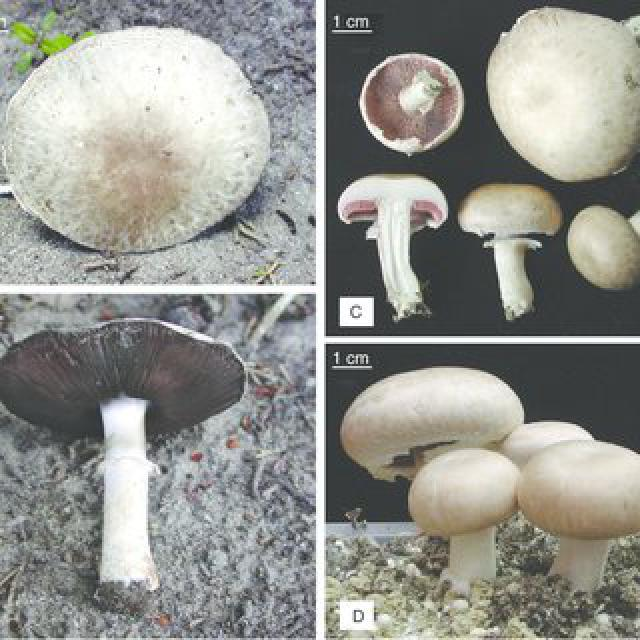Agaricus bisporus: (345, 370, 640, 594), (9, 323, 246, 599), (4, 32, 271, 251), (493, 8, 640, 172), (341, 179, 448, 319), (459, 185, 559, 322), (364, 56, 469, 154), (569, 205, 640, 291)
